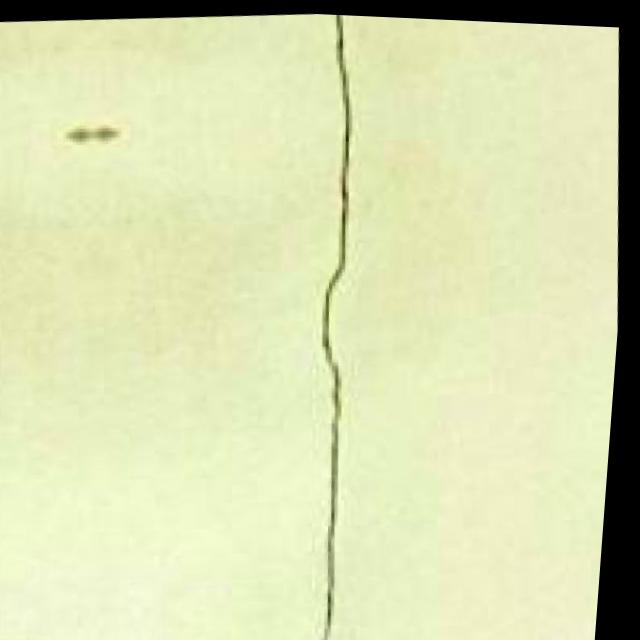Crack: (233, 9, 428, 640)
